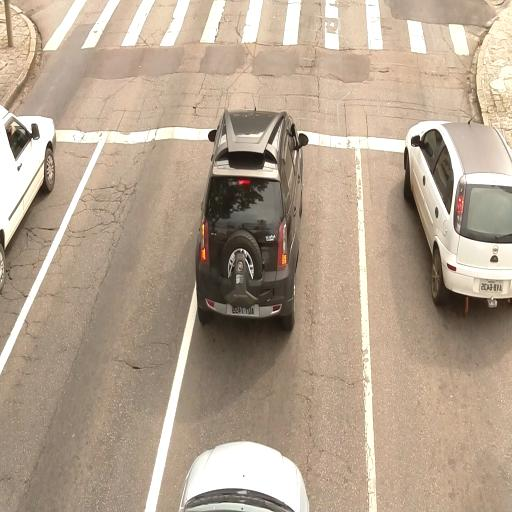car: (196, 106, 307, 331), (401, 117, 511, 310), (0, 96, 59, 288), (178, 441, 311, 511)
